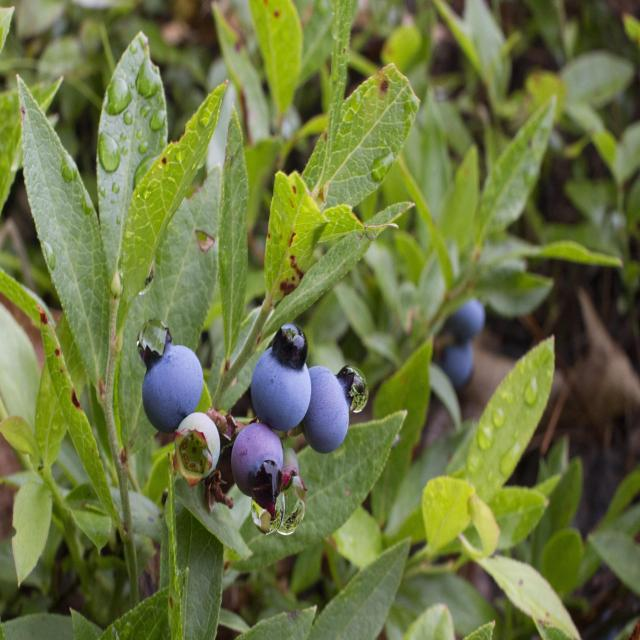BlueBerry - v1: (244, 317, 315, 437), (135, 311, 204, 428), (300, 358, 359, 462), (230, 419, 288, 510), (172, 403, 223, 496)
